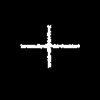single_crochet: (21, 25, 79, 67)
